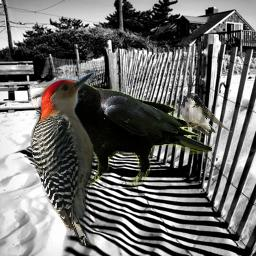Crow: (28, 79, 212, 186)
Swallow: (179, 92, 233, 137)
Woodpecker: (29, 71, 107, 246)
